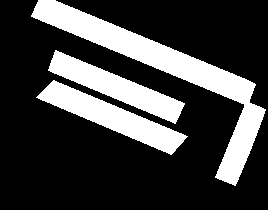parkingspot: (31, 0, 255, 105), (36, 80, 187, 154), (48, 50, 184, 123), (215, 101, 265, 185)
